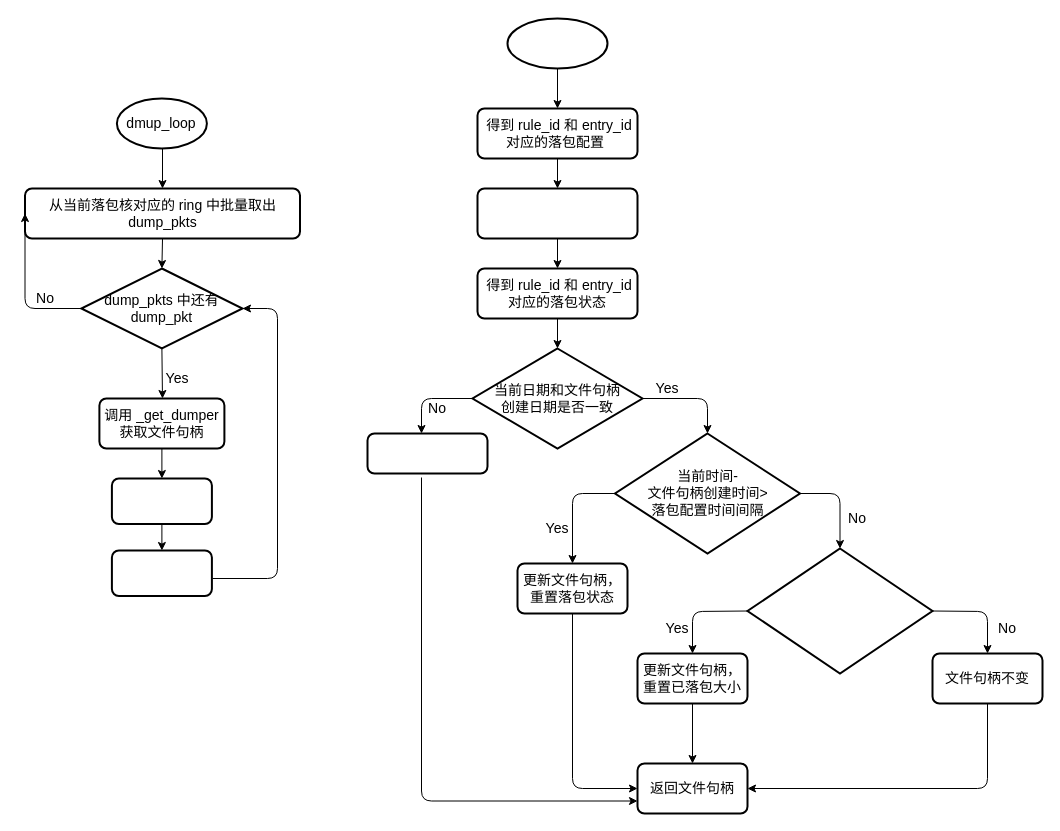
Some shapes in this 1060 by 831 pixel diagram are drawn without their labels. Here are the shapes that lost their labels. From the top down, the centre of each, then its label:
At point (557, 43): "_get_dumper".
At point (557, 213): "得到 rule_id 和 entry_id 对应的当前文件句柄".
At point (427, 453): "创建新日期目录 更新文件句柄".
At point (161, 500): "写入当前 dump_pkt".
At point (161, 572): "更新落包状态中的落包大小".
At point (839, 610): "当前已落包大小> 落包配置落包大小".
